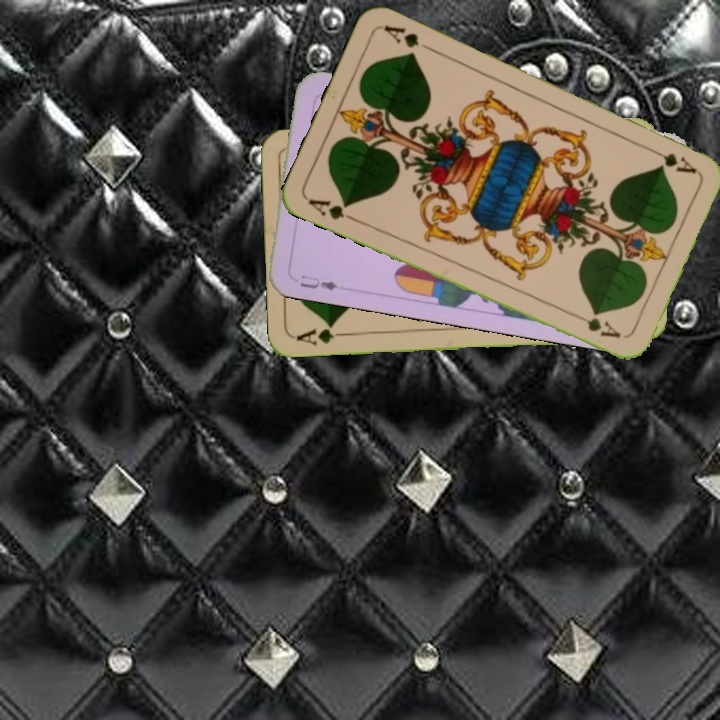EU: (296, 270, 340, 293)
GA: (644, 143, 700, 177), (304, 194, 360, 225), (293, 320, 352, 348)
